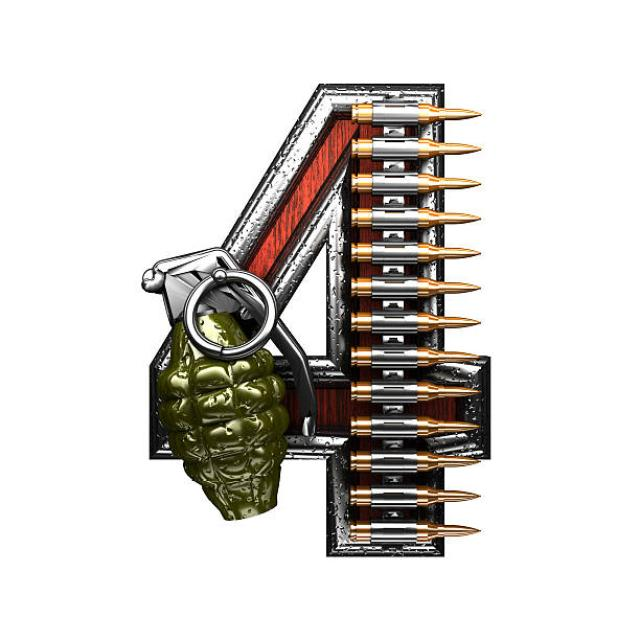grenade: (135, 244, 323, 527)
